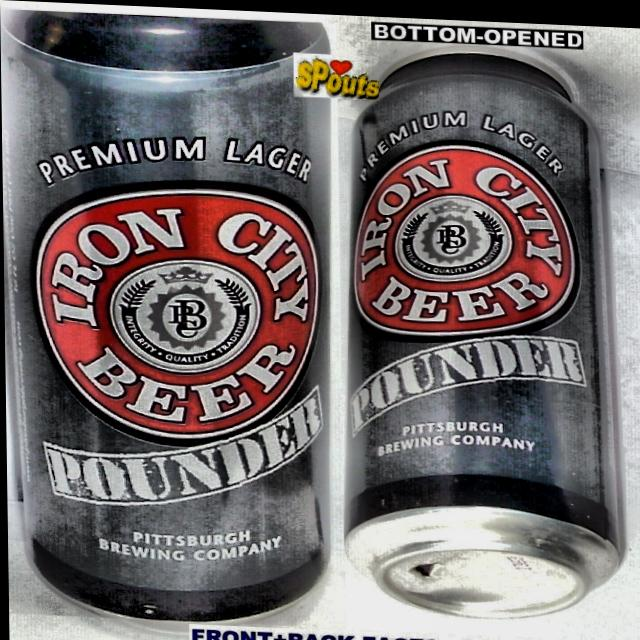can: (0, 0, 340, 640), (332, 26, 630, 630)
